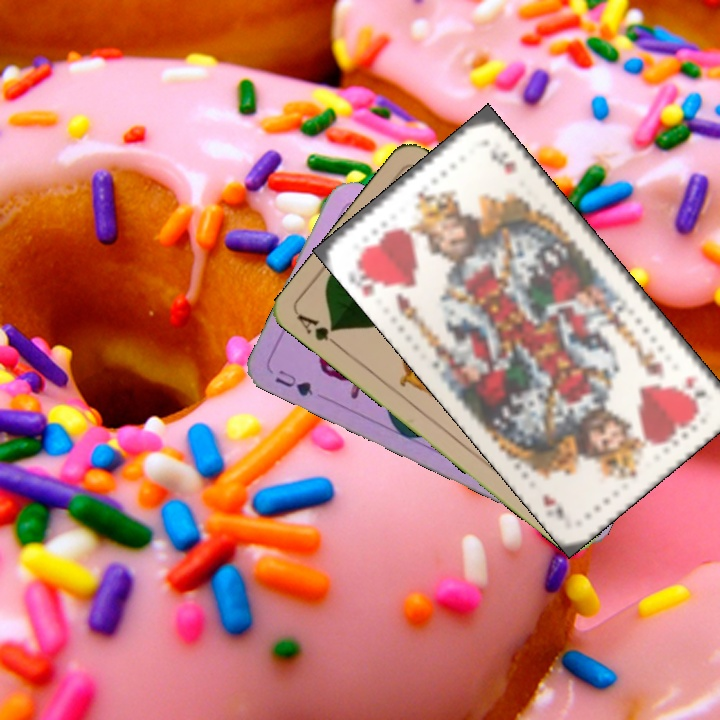GA: (293, 310, 344, 352)
GU: (271, 366, 316, 399)
HK: (682, 372, 716, 411), (354, 273, 388, 300)
